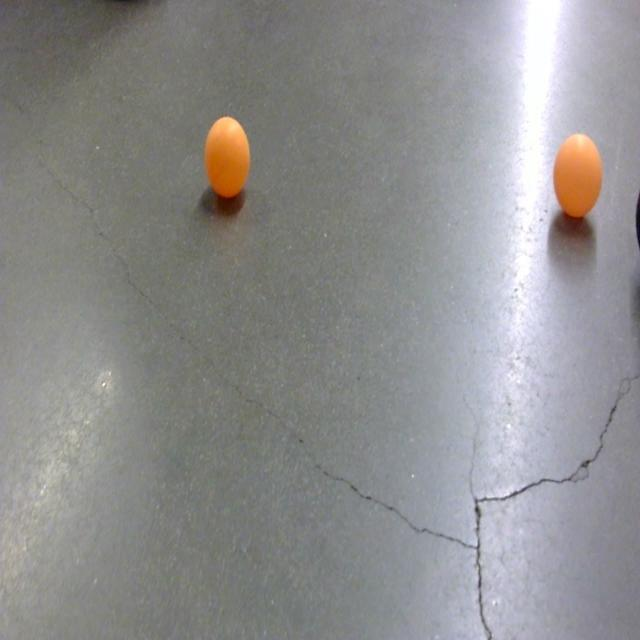ball: (552, 133, 604, 225), (204, 112, 252, 204)
